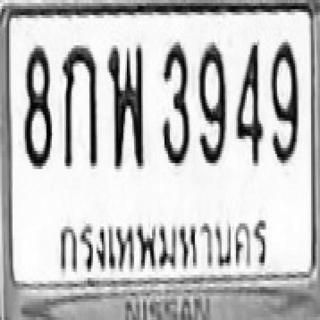A01: (61, 44, 97, 168)
A30: (107, 42, 143, 166)
N03: (160, 39, 188, 163)
N04: (233, 39, 262, 163)
N08: (23, 44, 52, 168)
N09: (197, 39, 225, 163), (270, 39, 297, 163)
P04: (53, 207, 275, 278)
